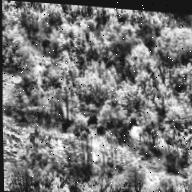boar: (86, 111, 98, 126), (59, 118, 71, 132), (92, 124, 103, 137)
